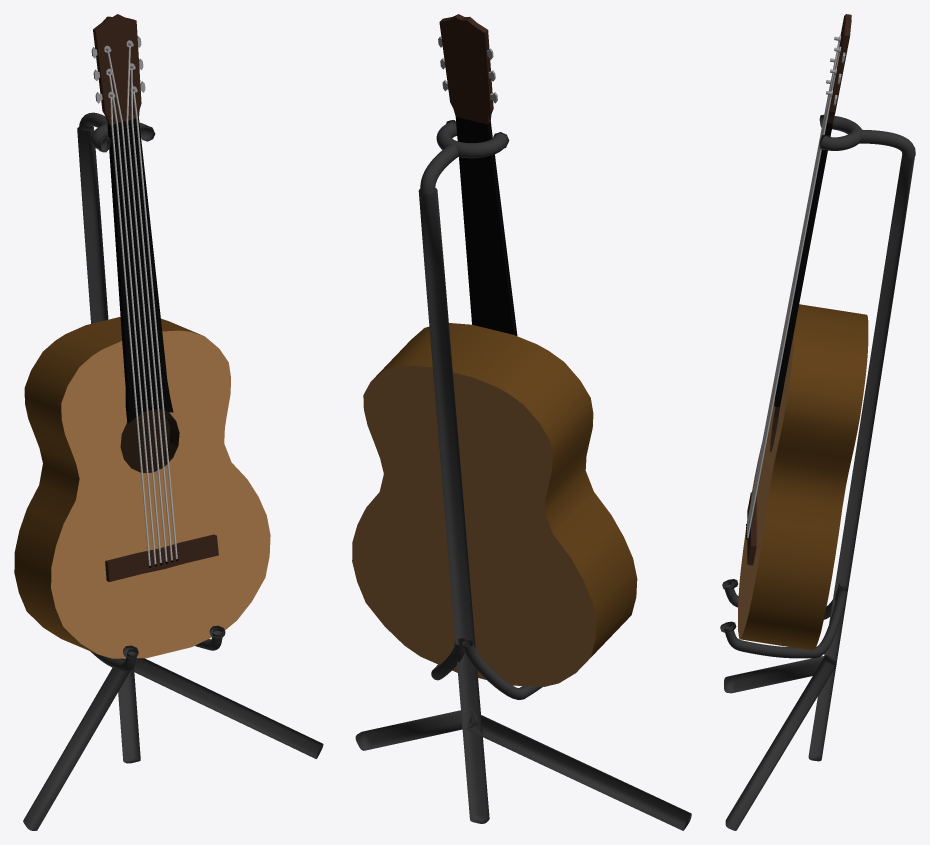
File: finalGuitarStand.fbx
3 renders of one model, left to right at view 1: azimuth 30°, elevation 25°; view 2: azimuth 150°, elevation 25°; view 3: azimuth 270°, elevation 25°, orthographic. The views are drawn at different scales.
Visible parts, largest first — view 1: Guitar, Cylinder.003, BezierCurve.001, BezierCurve; view 2: Guitar, Cylinder.003, BezierCurve.001, BezierCurve; view 3: Guitar, Cylinder.003, BezierCurve, BezierCurve.001.
Boxes of the visible parts, bbox=[...] form: Guitar: bbox=[14, 14, 270, 658]; Cylinder.003: bbox=[23, 126, 323, 830]; BezierCurve.001: bbox=[79, 112, 153, 151]; BezierCurve: bbox=[90, 628, 222, 671]; Guitar: bbox=[352, 14, 637, 686]; Cylinder.003: bbox=[355, 120, 691, 830]; BezierCurve.001: bbox=[420, 121, 507, 194]; BezierCurve: bbox=[431, 638, 542, 699]; Guitar: bbox=[738, 14, 868, 650]; Cylinder.003: bbox=[720, 114, 914, 830]; BezierCurve: bbox=[723, 581, 847, 658]; BezierCurve.001: bbox=[820, 115, 915, 157].
Size of the model in its own units: 256 by 604 by 144.
